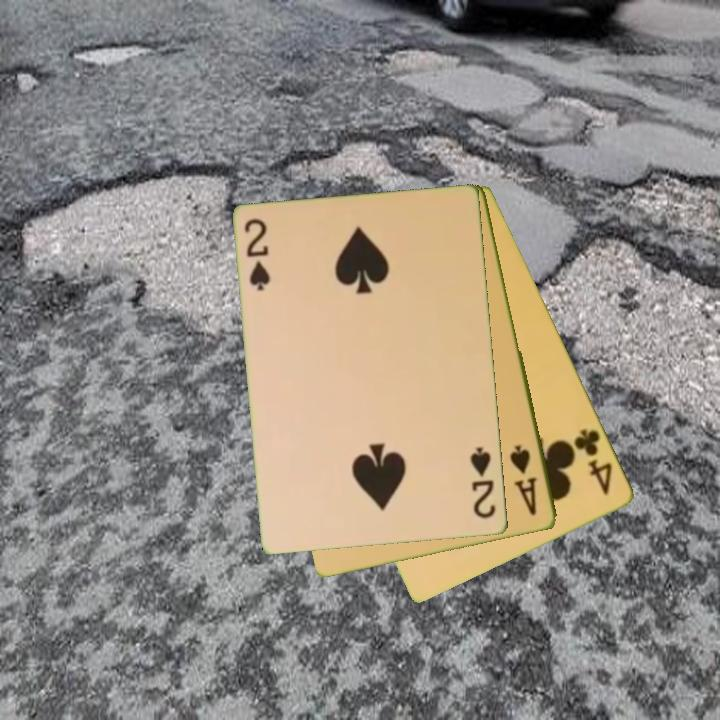2s: (241, 215, 273, 294), (467, 444, 499, 522)
4c: (571, 426, 616, 499)
As: (507, 442, 540, 519)
